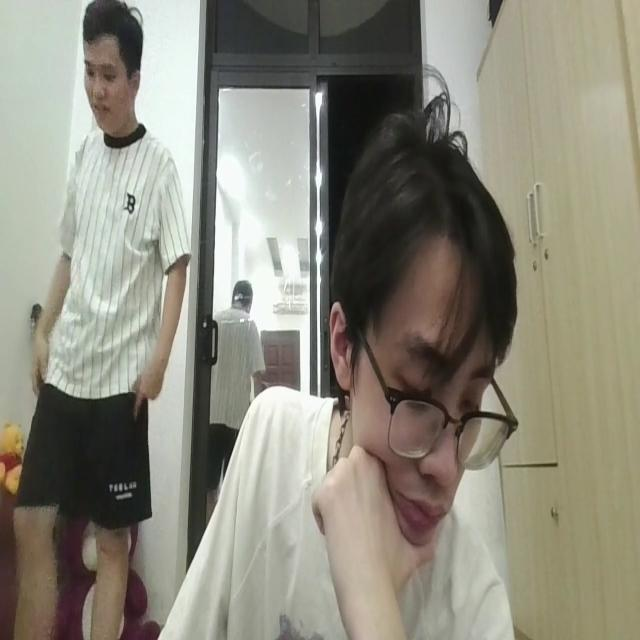extra_person: (13, 0, 187, 640)
student: (179, 92, 516, 640)
